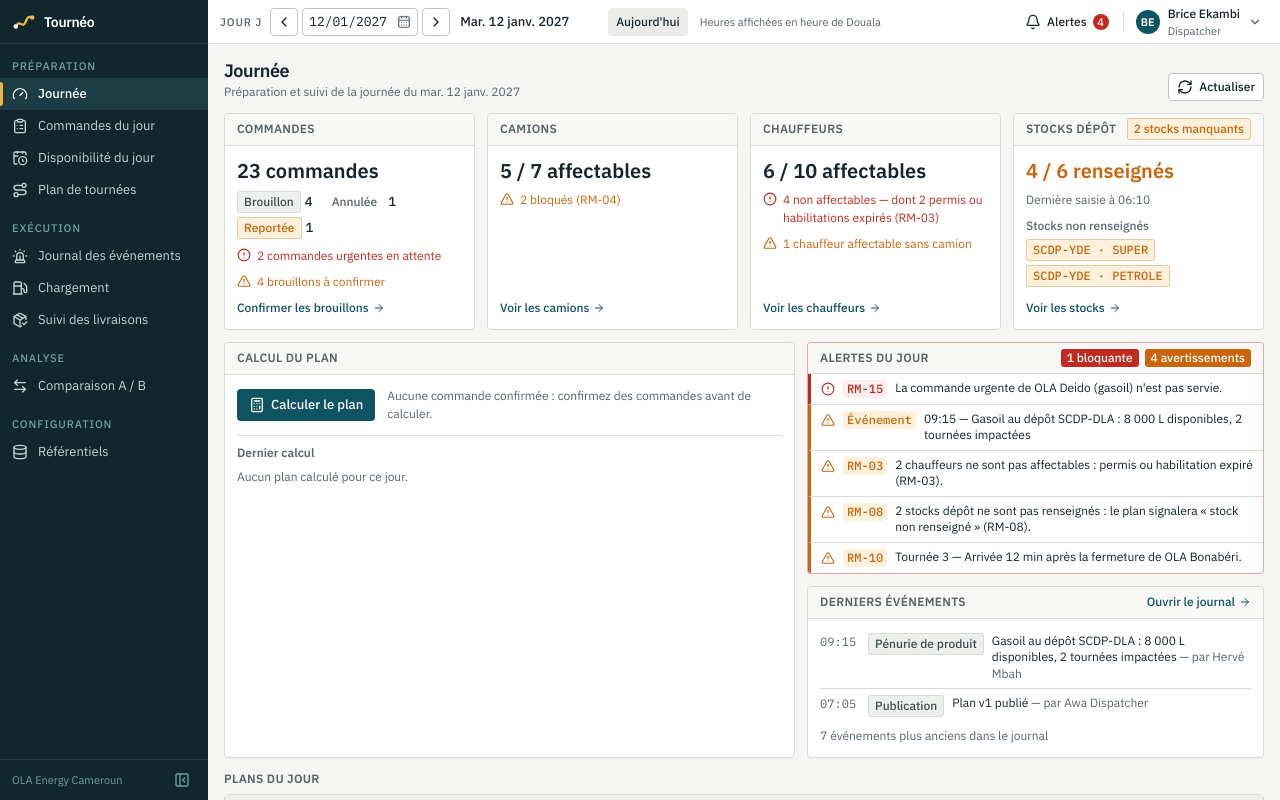
Test: Journée — calcul du plan › explique le refus 409 quand aucune commande n'est confirmée
Check: the text "Aucune commande confirmée : confirmez des commandes" is shown, box [387,388,751,420]
Click the button "Calculer le plan". click: click(306, 404)
box: [237,388,375,420]
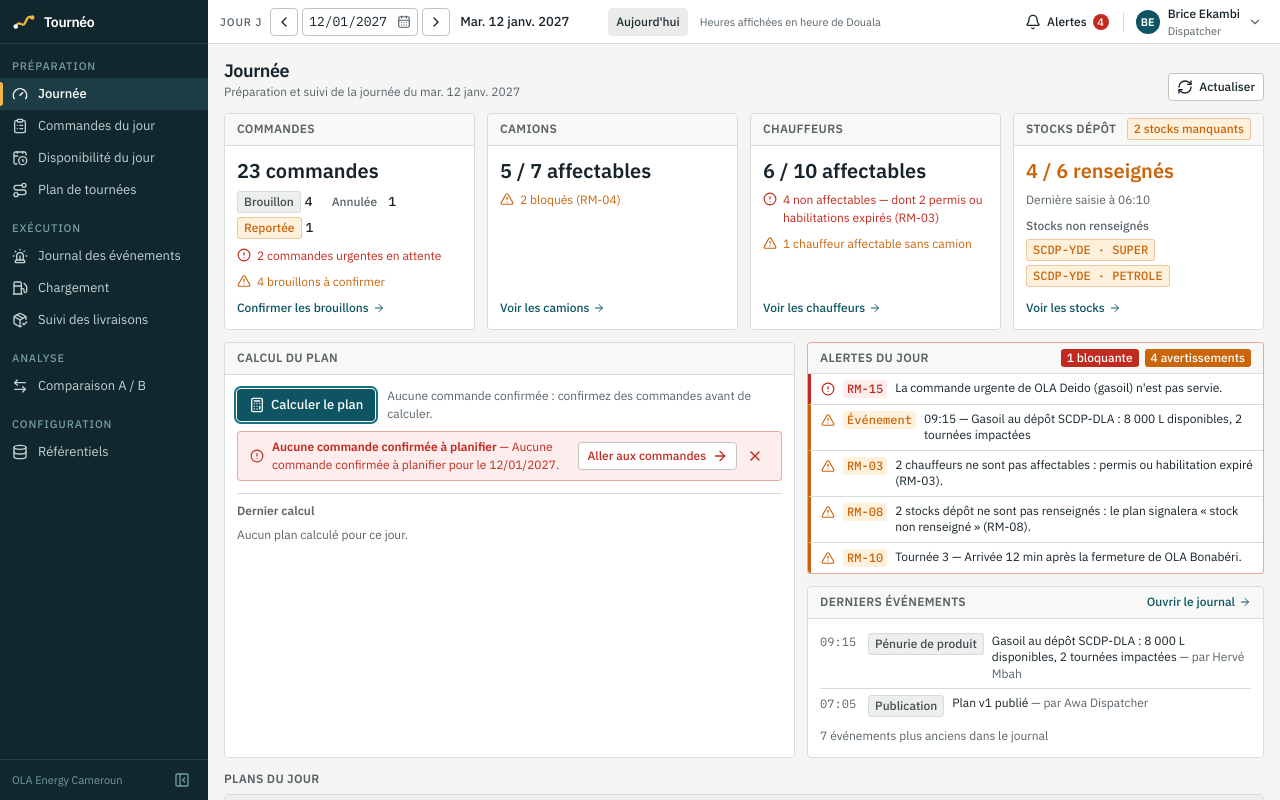
Check: the message shows "Aucune commande confirmée à planifier pour le 12/01/2027.", box [272,438,559,472]
Click the button named "Fermer". click: click(755, 456)
box: [741,442,769,470]
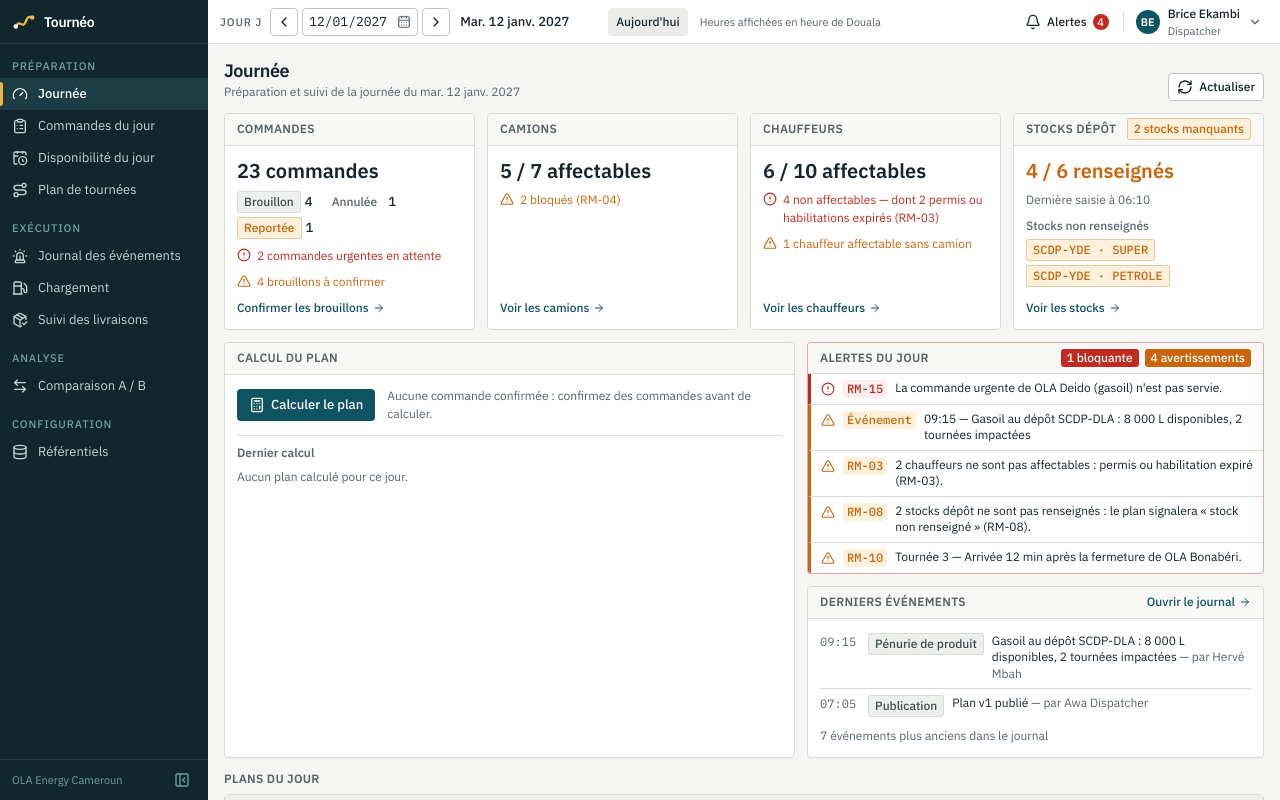
Check: the text "Aucune commande confirmée à planifier" is gone
